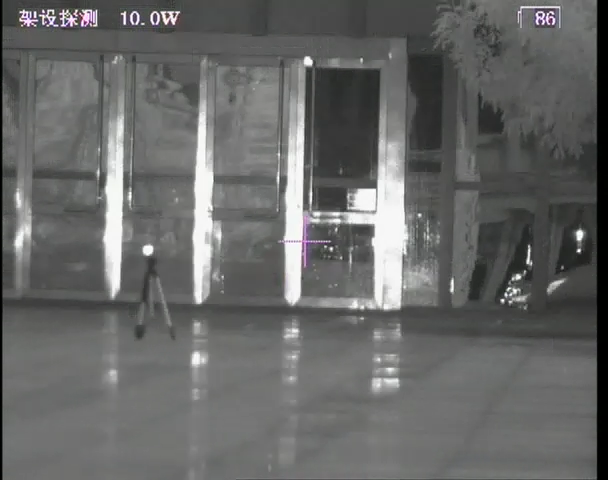my: (140, 243, 155, 257)
